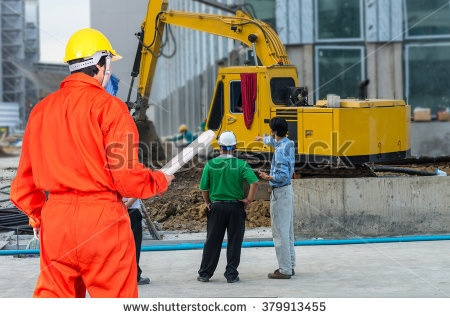none: (268, 116, 288, 140)
white: (218, 131, 236, 155)
yellow: (63, 28, 115, 86), (178, 124, 187, 134)
